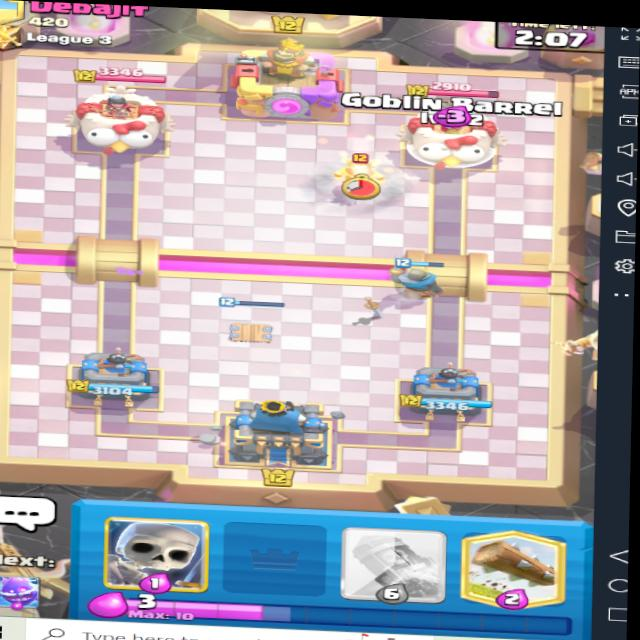electro-wizard: (328, 148, 388, 192)
